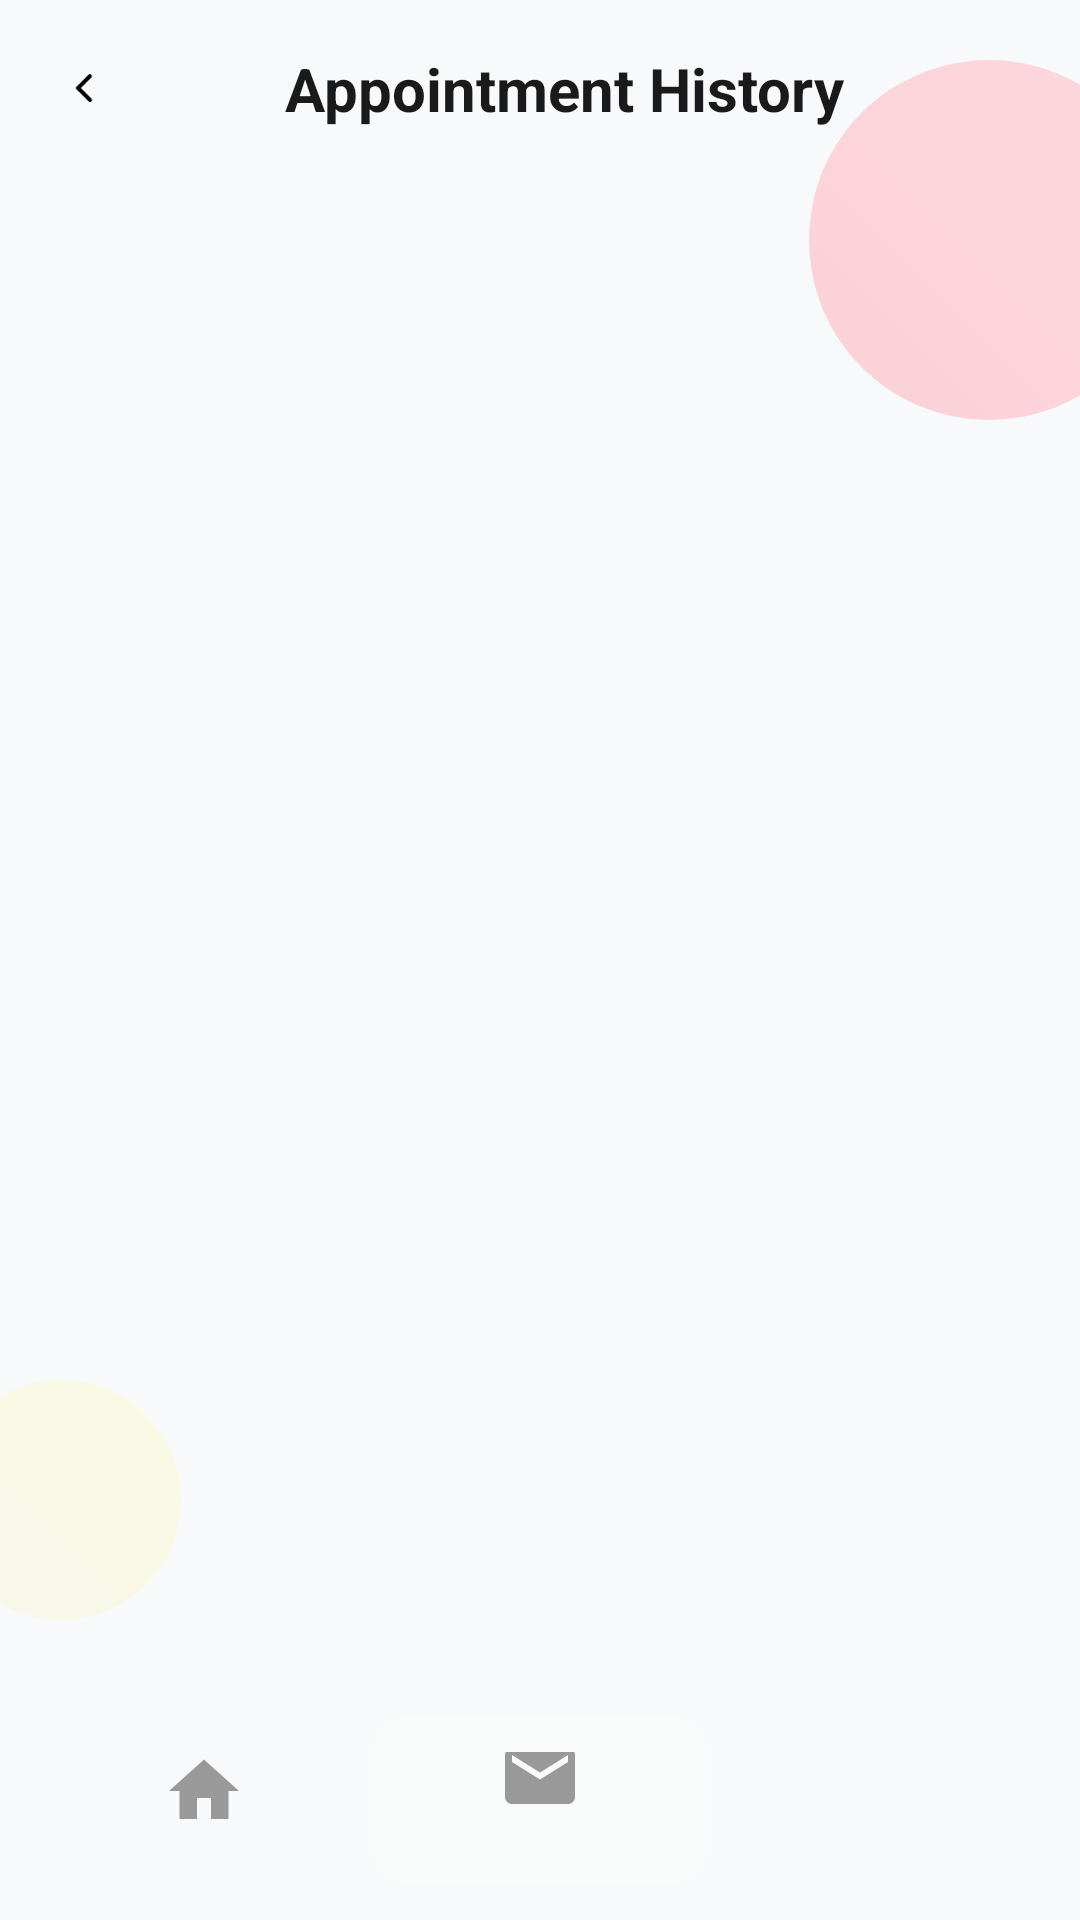

Named icons in this screenshot (1080 × 1920) and their centers, (x,y):
Back: (84,88)
Home: (204,1789)
Inbox: (540,1778)
